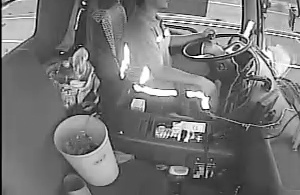paper: (167, 120, 206, 137)
